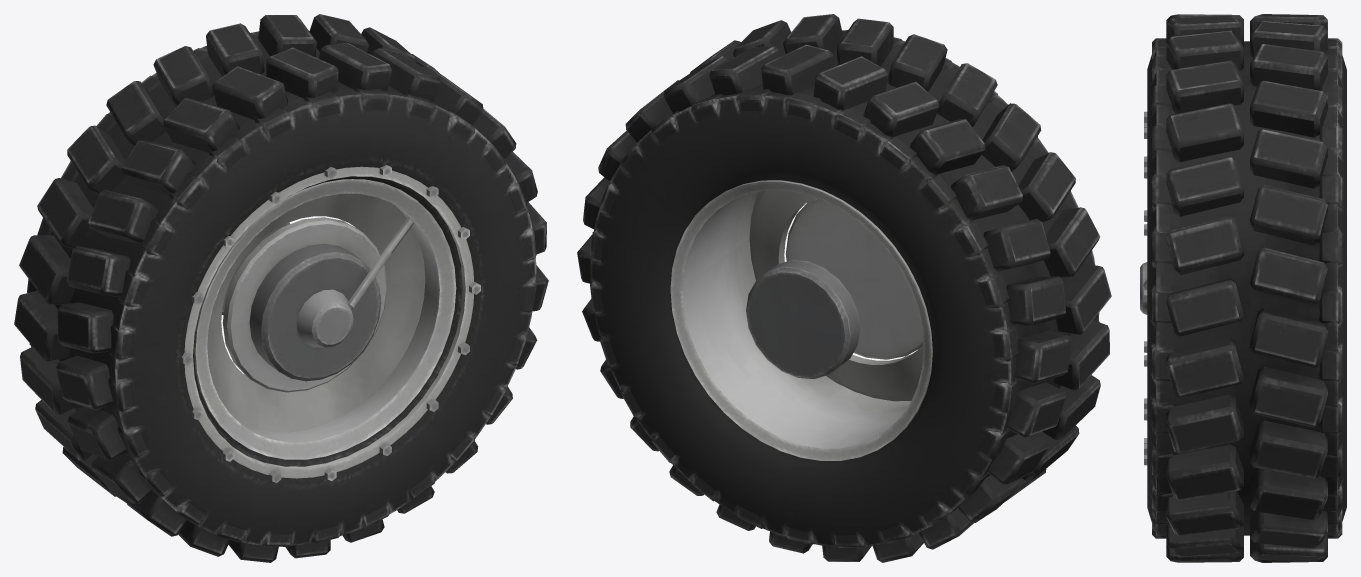
The model's file is wheel.glb.
3 views of the same model, side by side, from view 1: azimuth 30°, elevation 25°; view 2: azimuth 150°, elevation 25°; view 3: azimuth 270°, elevation 25° (orthographic). The views are drawn at different scales.
Visible parts, largest first — view 1: wheel; view 2: wheel; view 3: wheel.
Boxes of the visible parts, x1,y1,x2,y2 form: wheel: (14, 14, 548, 562); wheel: (577, 14, 1111, 562); wheel: (1140, 14, 1346, 562).
Bounding box in the file's own units: 1.15 × 1.15 × 0.4351.
1 material, 1 textured.
